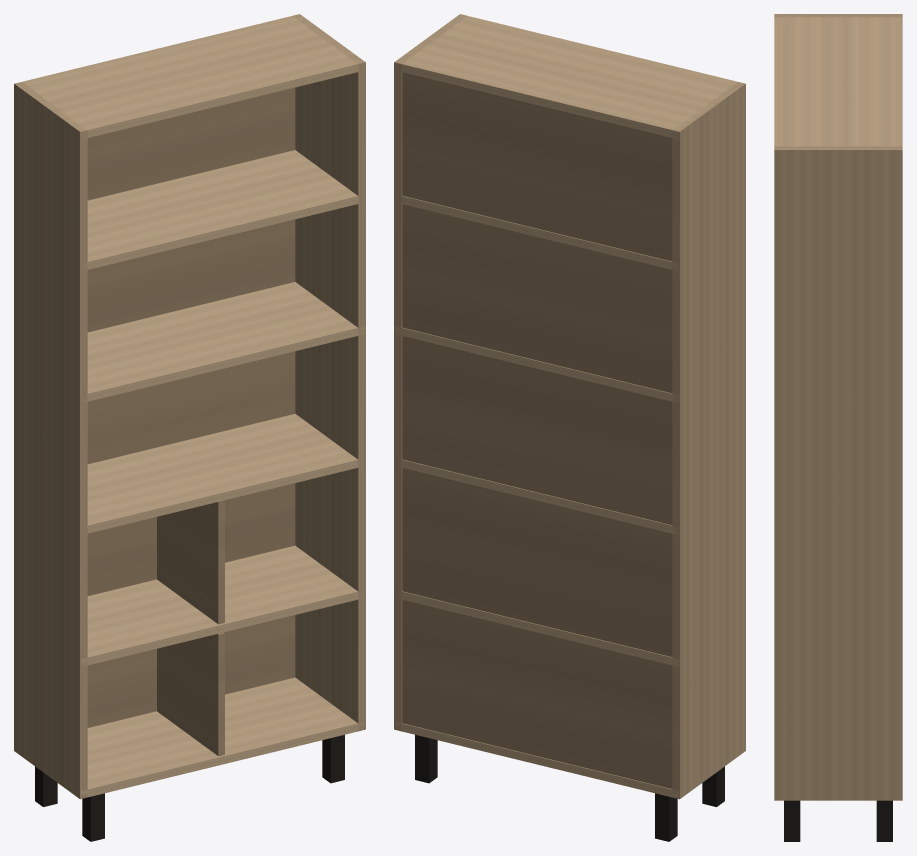
The picture shows the model from 3 angles, left to right: view 1: azimuth 30°, elevation 25°; view 2: azimuth 150°, elevation 25°; view 3: azimuth 270°, elevation 25°; orthographic projection. The views are drawn at different scales.
Visible parts, largest first — view 1: Carcass; view 2: Carcass; view 3: Carcass.
Boxes of the visible parts, x1=… form: Carcass: x1=14, y1=14, x2=365, y2=841; Carcass: x1=394, y1=14, x2=745, y2=841; Carcass: x1=774, y1=14, x2=902, y2=841.
Bounding box in the file's own units: 0.75 × 1.8 × 0.3.
1 material, 1 textured.
